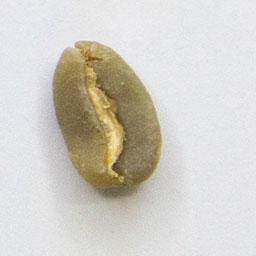longberry: (49, 35, 165, 192)
